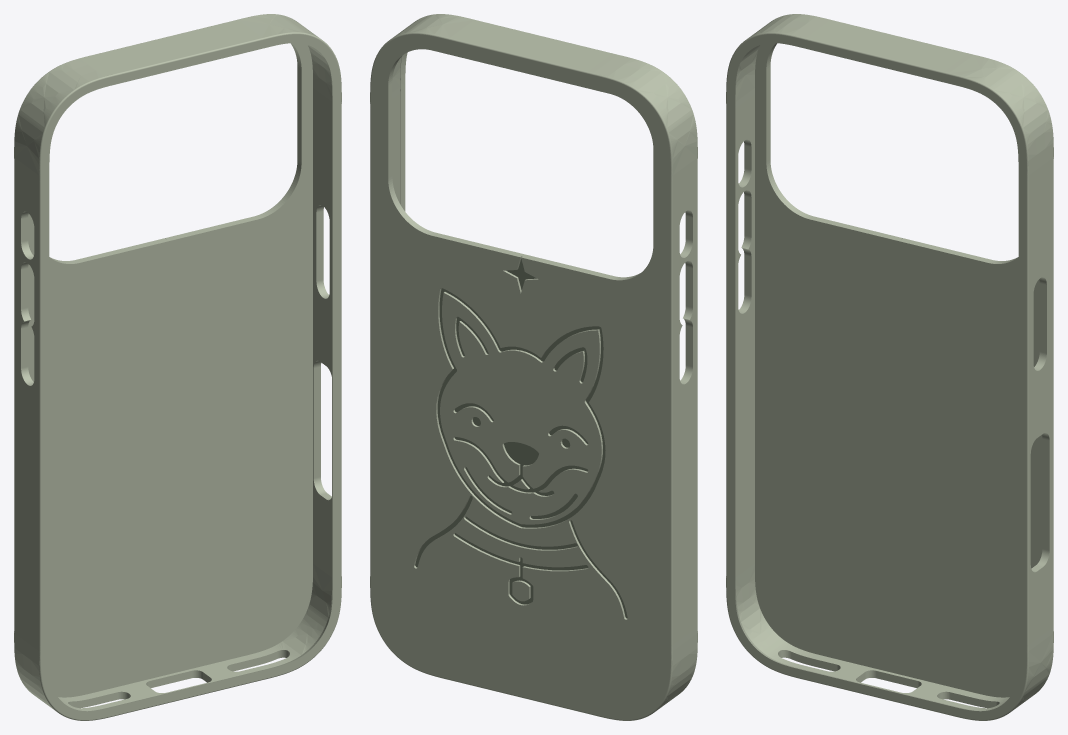
Rendered from pro.glb.
3 renders of one model, left to right at view 1: azimuth 30°, elevation 25°; view 2: azimuth 150°, elevation 25°; view 3: azimuth 330°, elevation 25°, orthographic.
Visible parts, largest first — view 1: case; view 2: case, engraving; view 3: case.
Boxes of the visible parts, x1=… form: case: x1=14, y1=14, x2=341, y2=720; case: x1=370, y1=14, x2=697, y2=720; engraving: x1=415, y1=259, x2=627, y2=618; case: x1=726, y1=14, x2=1053, y2=720.
Bounding box in the file's own units: 76.06 × 154 × 11.45.
